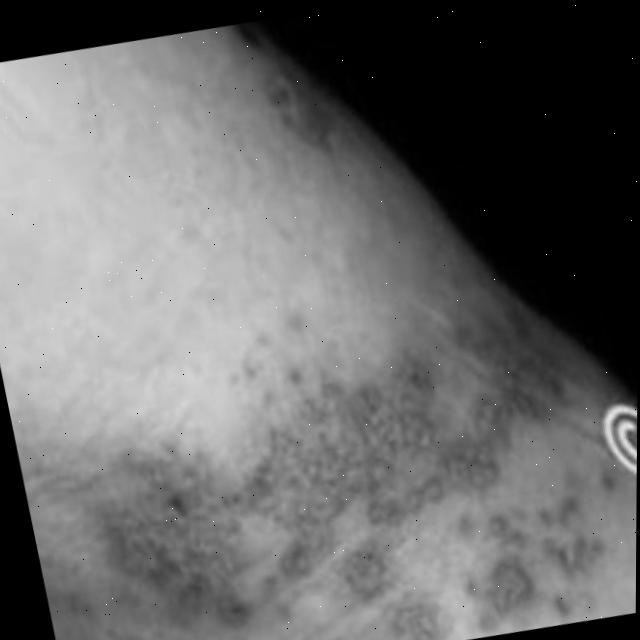Shingles: (53, 317, 621, 640)
